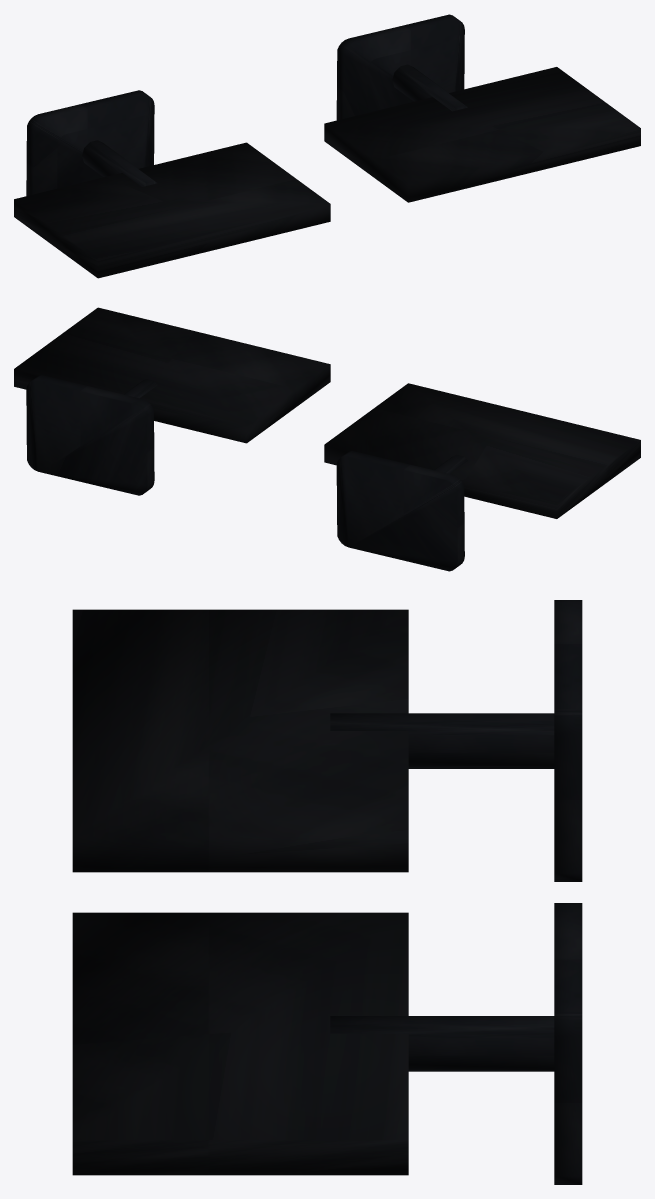
The model's file is MONITOR_DUAL_001.glb.
The picture shows the model from 3 angles, top to bottom: view 1: azimuth 30°, elevation 25°; view 2: azimuth 150°, elevation 25°; view 3: azimuth 270°, elevation 25°; orthographic projection. The views are drawn at different scales.
Parts seen in each view (by area): view 1: monitor_frame_000, monitor_frame_004, base_003, base_007, stand_002, stand_006; view 2: monitor_frame_004, monitor_frame_000, base_007, base_003; view 3: monitor_frame_000, monitor_frame_004, stand_002, stand_006, base_003, base_007.
Part boxes in pixels (x1,y1,x2,y2): monitor_frame_000: (14, 142, 330, 278); monitor_frame_004: (324, 67, 640, 202); base_003: (26, 90, 154, 195); base_007: (336, 14, 464, 120); stand_002: (82, 140, 157, 186); stand_006: (392, 64, 467, 111); monitor_frame_004: (14, 307, 330, 443); monitor_frame_000: (324, 383, 640, 518); base_007: (26, 375, 154, 495); base_003: (336, 451, 464, 571); monitor_frame_000: (72, 609, 408, 872); monitor_frame_004: (72, 912, 408, 1175); stand_002: (330, 713, 554, 768); stand_006: (330, 1016, 554, 1071); base_003: (554, 600, 582, 881); base_007: (554, 903, 582, 1184).
Bounding box in the file's own units: 1.12 × 0.18 × 0.455.
Materials: 3 (3 with a texture image).
